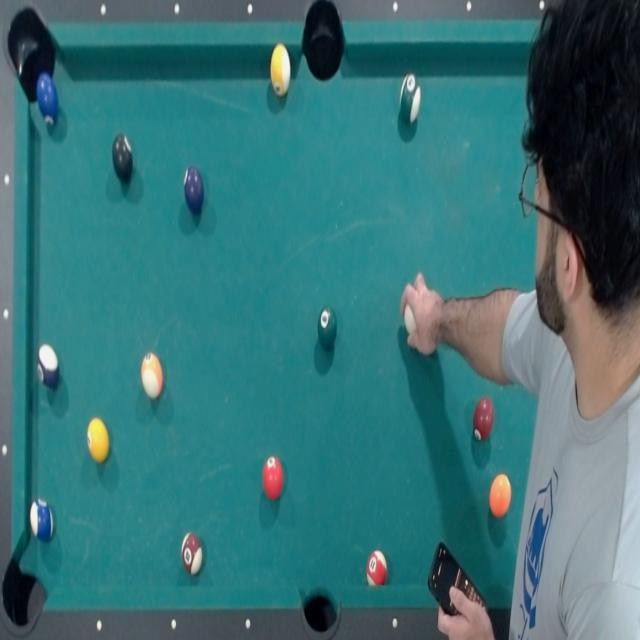black_8ball: (112, 132, 134, 184)
blue_solid: (34, 71, 60, 128)
blue_stripe: (28, 496, 55, 542)
cue_ball: (404, 301, 416, 334)
green_solid: (314, 302, 338, 351)
green_stripe: (398, 70, 422, 127)
maroon_solid: (470, 397, 494, 442)
maroon_stripe: (177, 532, 204, 578)
orange_solid: (487, 471, 512, 519)
orange_stripe: (138, 348, 164, 402)
player_body: (499, 0, 640, 637)
player_hand: (395, 268, 451, 368), (420, 571, 498, 639)
purple_solid: (182, 163, 206, 216)
purple_stripe: (34, 341, 60, 392)
red_solid: (261, 454, 285, 501)
red_stripe: (365, 548, 388, 588)
yellow_solid: (85, 414, 111, 465)
yellow_stripe: (267, 41, 292, 99)
